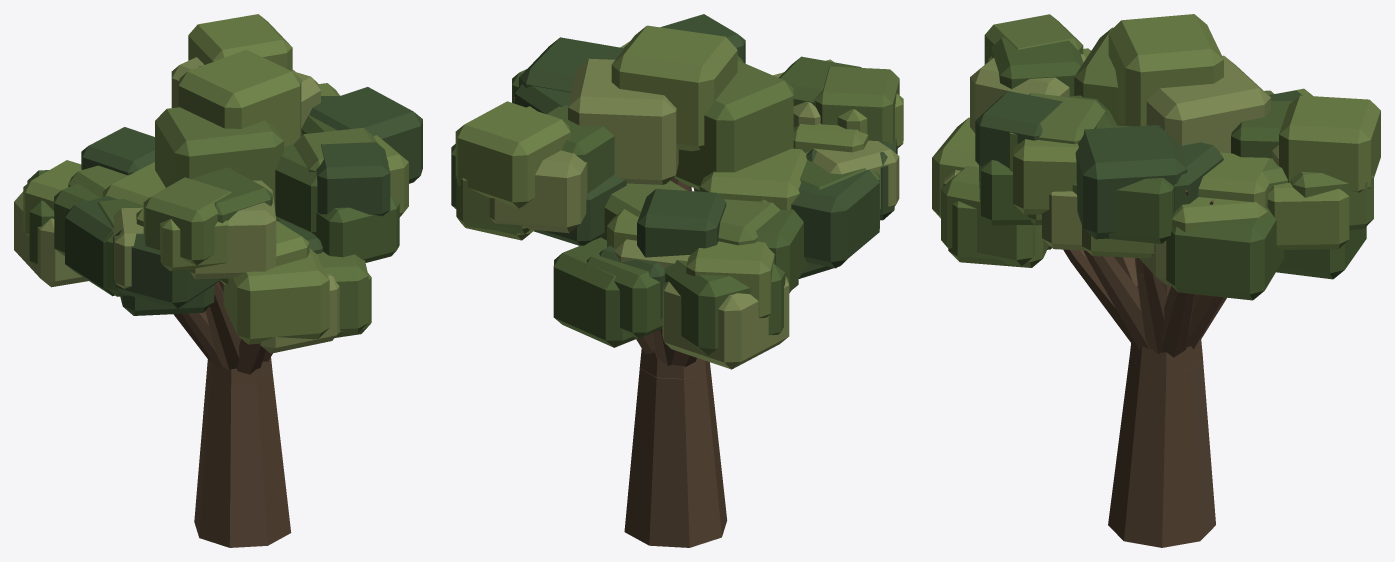
Rendered from oak_ancient_spring_3.glb.
3 renders of one model, left to right at view 1: azimuth 30°, elevation 25°; view 2: azimuth 150°, elevation 25°; view 3: azimuth 270°, elevation 25°, orthographic. The views are drawn at different scales.
Visible parts, largest first — view 1: oak_ancient_spring_3; view 2: oak_ancient_spring_3; view 3: oak_ancient_spring_3.
Boxes of the visible parts, x1,y1,x2,y2 form: oak_ancient_spring_3: [14, 14, 422, 547]; oak_ancient_spring_3: [451, 14, 903, 547]; oak_ancient_spring_3: [932, 14, 1380, 547].
Size of the model in its own units: 18.79 by 24 by 19.92.
